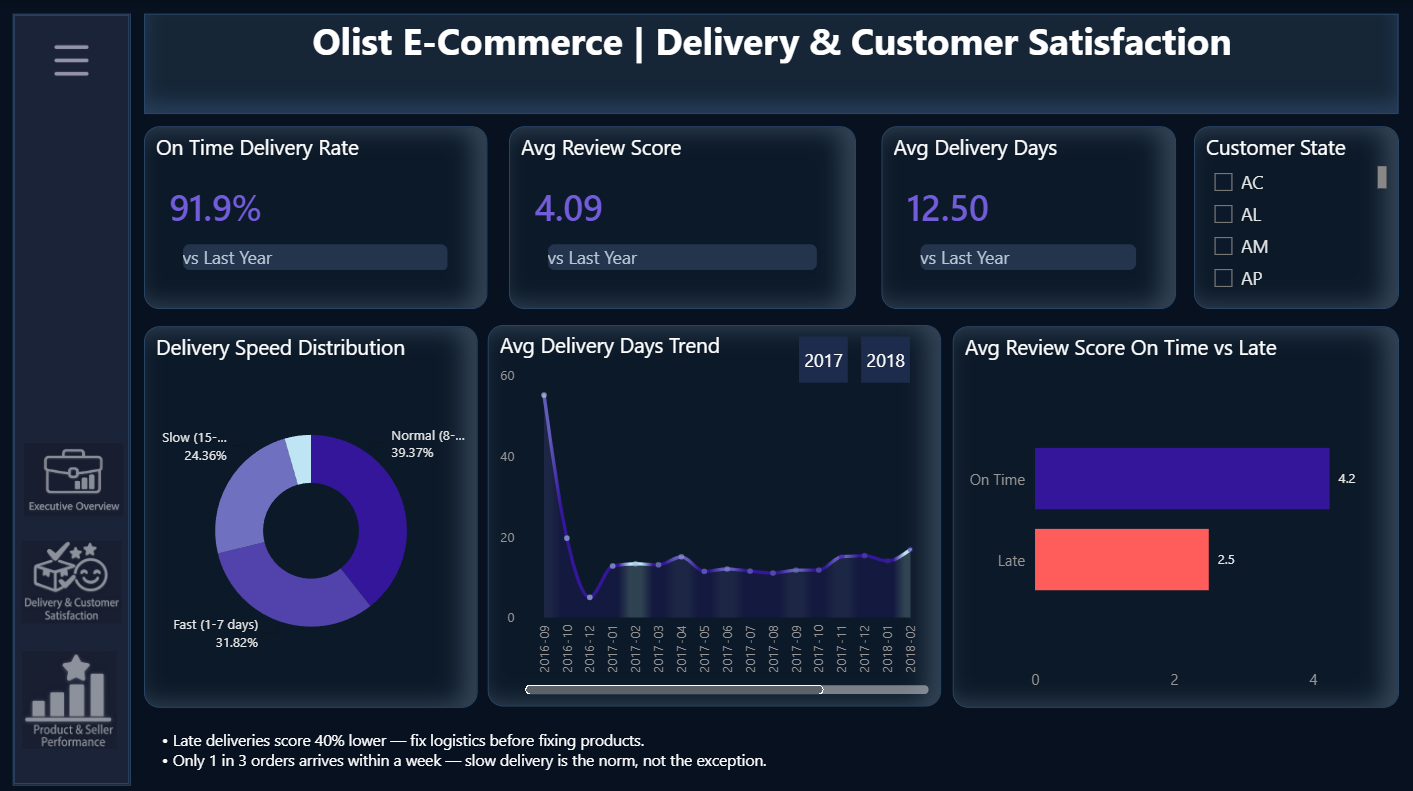

Layout of this report page (visuals, bound fields, positions):
{"tool":"powerbi","page":{"name":"Delivery & Customer Satisfaction","canvas":[1280,720],"ordinal":1},"visuals":[{"type":"cardVisual","title":"On Time Delivery Rate","fields":{"Data":["Fact_Order_Items.On Time Delivery Rate"]},"box":[130.8,113.7,309.4,165.1],"z":0},{"type":"cardVisual","title":"Avg Delivery Days","fields":{"Data":["Fact_Order_Items.Avg Delivery Days"]},"box":[796.1,113.7,265.4,165.1],"z":1000},{"type":"cardVisual","title":"Avg Review Score","fields":{"Data":["Fact_Order_Items.Avg Review Score"]},"box":[459.8,113.7,313,165.1],"z":2000},{"type":"clusteredBarChart","title":"Avg Review Score On Time vs Late","fields":{"Category":["Fact_Order_Items.delivered_status"],"Y":["Fact_Order_Items.Avg Review Score"]},"box":[859.7,294.7,402.3,343.6],"z":3000},{"type":"donutChart","title":"Delivery Speed Distribution","fields":{"Category":["Fact_Order_Items.Delivery Bucket"],"Y":["Fact_Order_Items.Order Count"]},"box":[130.8,294.7,300.8,343.6],"z":4000},{"type":"lineChart","title":"Avg Delivery Days Trend","fields":{"Category":["Dim_Date.YearMonth"],"Y":["Fact_Order_Items.Avg Delivery Days"]},"box":[440.2,293.5,408.4,343.6],"z":5000},{"type":"advancedSlicerVisual","fields":{"Values":["Dim_Date.Year"]},"box":[696.6,293.1,151.7,57.5],"z":6000},{"type":"slicer","title":"Customer State","fields":{"Values":["Dim_Customers.customer_state"]},"box":[1077.3,113.7,184.6,165.1],"z":7000},{"type":"textbox","title":"Olist E-Commerce | Delivery & Customer Satisfaction","box":[130.8,12.2,1131.1,90.5],"z":8000},{"type":"shape","box":[12.2,12.2,106.4,695.8],"z":9000},{"type":"image","box":[28.1,29.3,74.6,50.1],"z":10000},{"type":"image","box":[22,398.6,89.3,67.3],"z":11000},{"type":"image","box":[19.6,587,89.3,88],"z":12000},{"type":"image","box":[20.8,481.8,90.5,86.8],"z":13000},{"type":"textbox","box":[130.8,653,588.2,55],"z":14000}]}

Visuals, with their boxes on the page's 1280x720 design canvas (x1, y1, x2, y2). These are canvas units, not pixel positions in the 1413x791 screenshot, which may show the page scaled, cropped or inside an application window:
"On Time Delivery Rate" cardVisual: detection(131, 114, 440, 279)
"Avg Delivery Days" cardVisual: detection(796, 114, 1062, 279)
"Avg Review Score" cardVisual: detection(460, 114, 773, 279)
"Avg Review Score On Time vs Late" clusteredBarChart: detection(860, 295, 1262, 638)
"Delivery Speed Distribution" donutChart: detection(131, 295, 432, 638)
"Avg Delivery Days Trend" lineChart: detection(440, 294, 849, 637)
advancedSlicerVisual - Dim_Date.Year: detection(697, 293, 848, 351)
"Customer State" slicer: detection(1077, 114, 1262, 279)
"Olist E-Commerce | Delivery & Customer Satisfaction" textbox: detection(131, 12, 1262, 103)
shape: detection(12, 12, 119, 708)
image: detection(28, 29, 103, 79)
image: detection(22, 399, 111, 466)
image: detection(20, 587, 109, 675)
image: detection(21, 482, 111, 569)
textbox: detection(131, 653, 719, 708)
